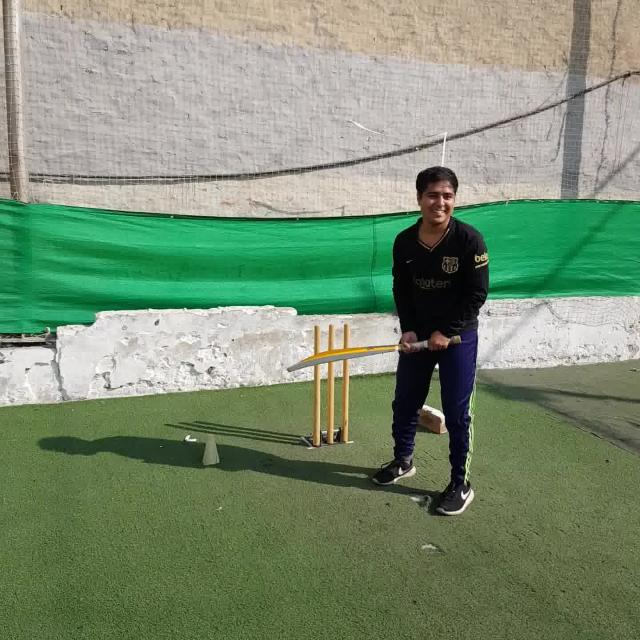bat: (288, 331, 460, 371)
